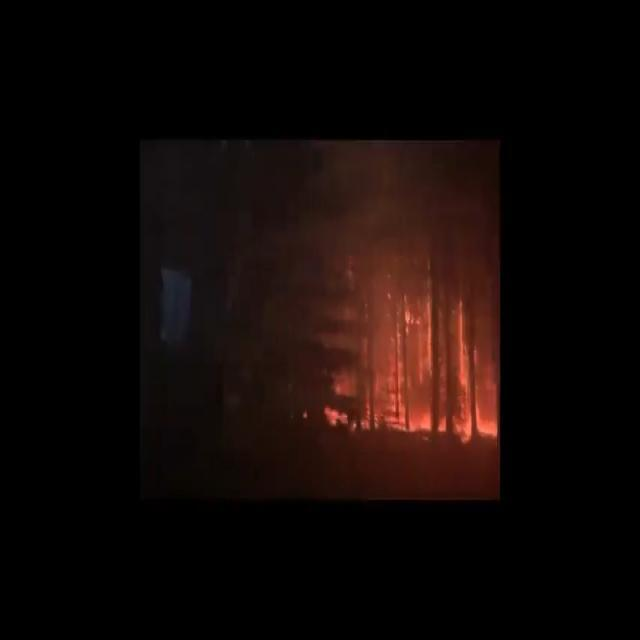Fire: (328, 268, 498, 452)
